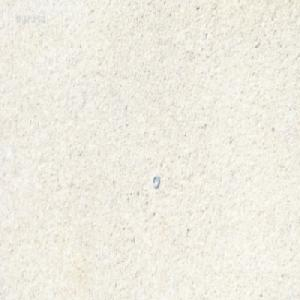Washer: (152, 174, 159, 189)
